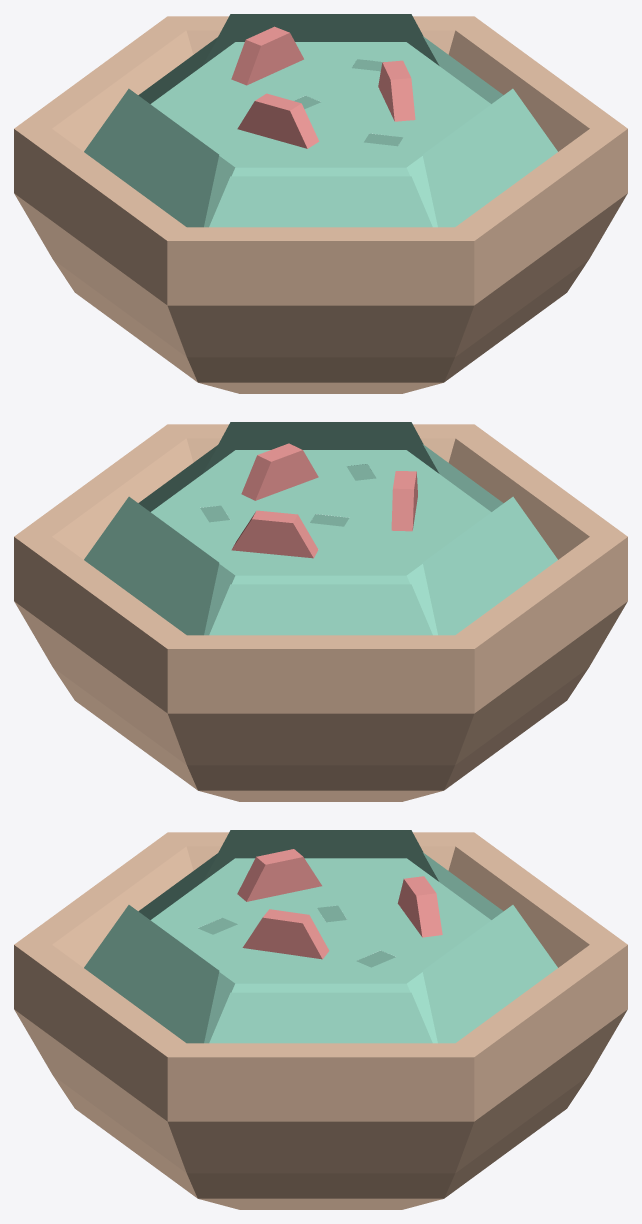
The picture shows the model from 3 angles, top to bottom: view 1: azimuth 30°, elevation 25°; view 2: azimuth 150°, elevation 25°; view 3: azimuth 270°, elevation 25°; orthographic projection.
Parts seen in each view (by area): view 1: salad; view 2: salad; view 3: salad.
Part boxes in pixels (x1,y1,x2,y2): salad: (14,14,627,393); salad: (14,422,627,801); salad: (14,830,627,1209).
Bounding box in the file's own units: 0.5022 × 0.2733 × 0.5798.
